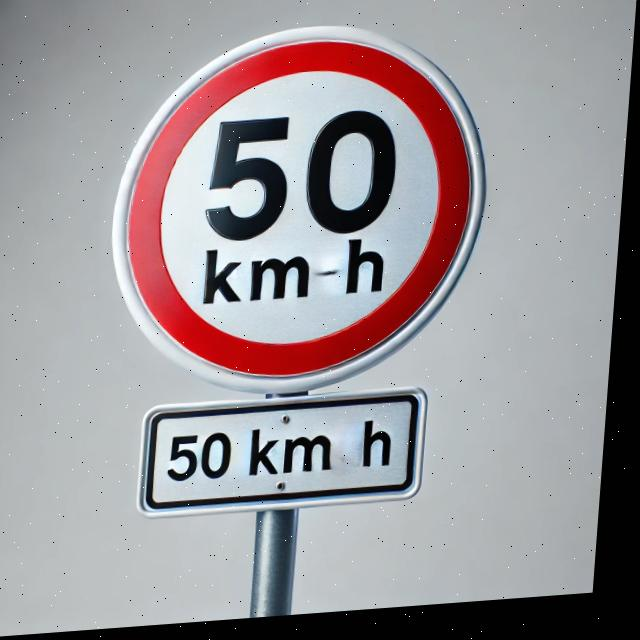Speed limit 50: (105, 20, 502, 410)
